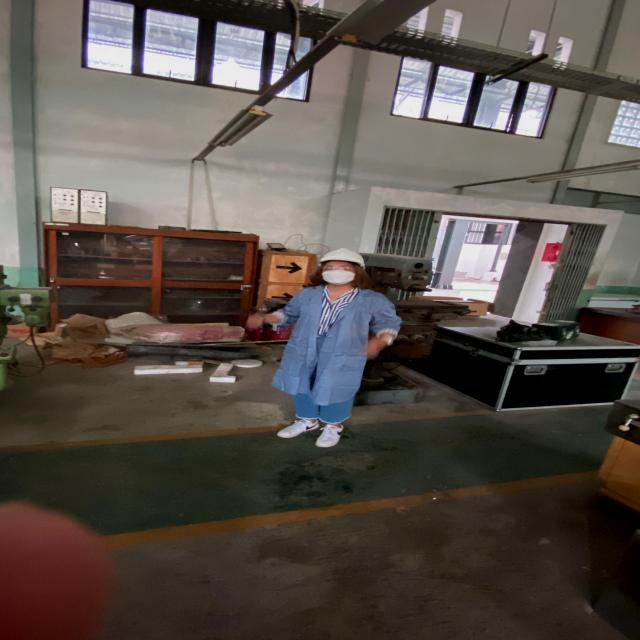face_mask: (320, 263, 357, 285)
glasses: (321, 264, 355, 272)
hand_noglove: (241, 310, 271, 331), (359, 338, 388, 359)
head_helmet: (318, 246, 368, 268)
person: (242, 244, 401, 450)
shoes: (277, 415, 321, 439), (313, 420, 349, 448)
